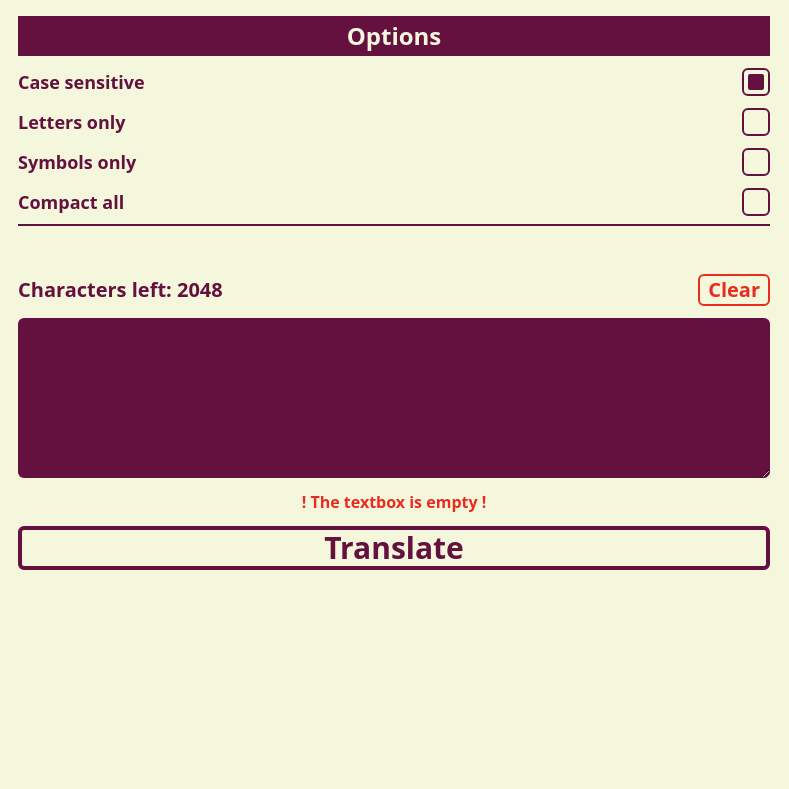
Test case: App › should ignore punctuation marks
In the text box: [394, 398] box [18,318,770,478], type "This!? is — a :test…"
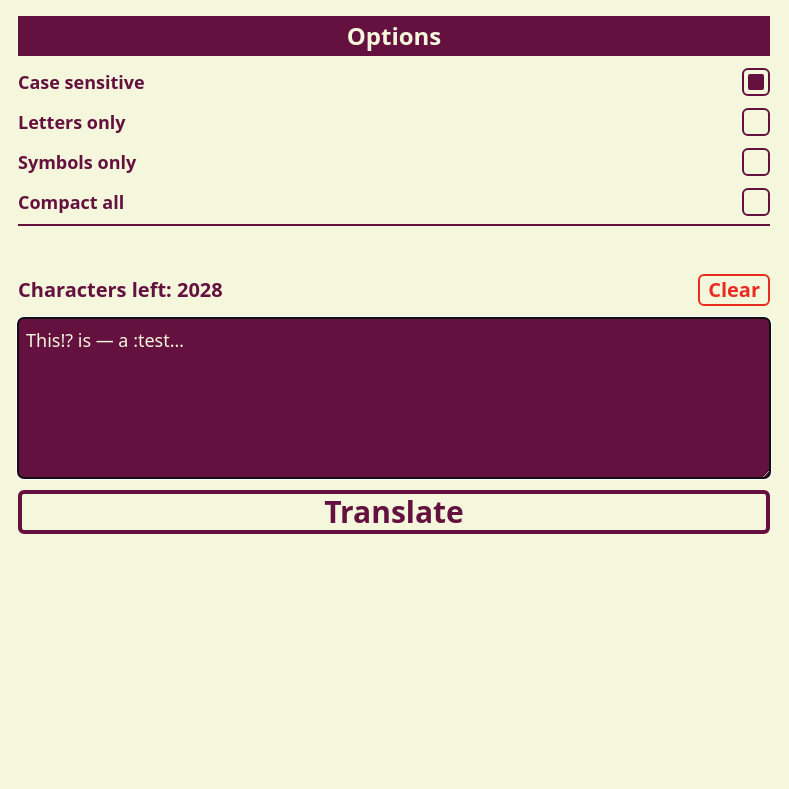
Click the button "Translate": [394, 512] box [18,490,770,534]
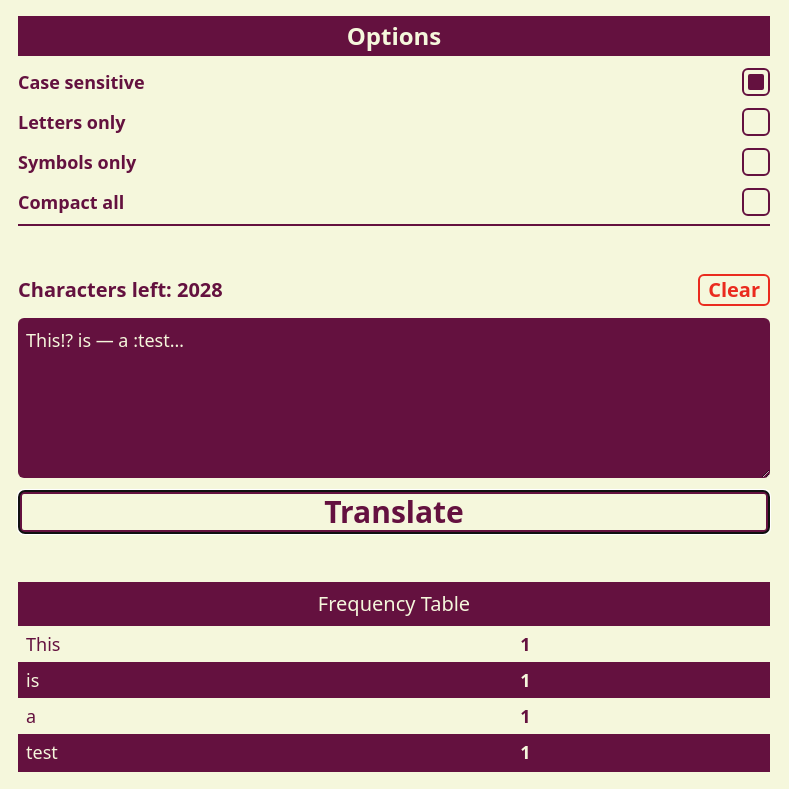
Expected: the number of rows is 4, [18,626,770,662]; [18,662,770,698]; [18,698,770,734]; [18,734,770,771]
Expected: the cell "This" is shown, [18,626,512,662]
Expected: the cell "is" is shown, [18,662,512,698]
